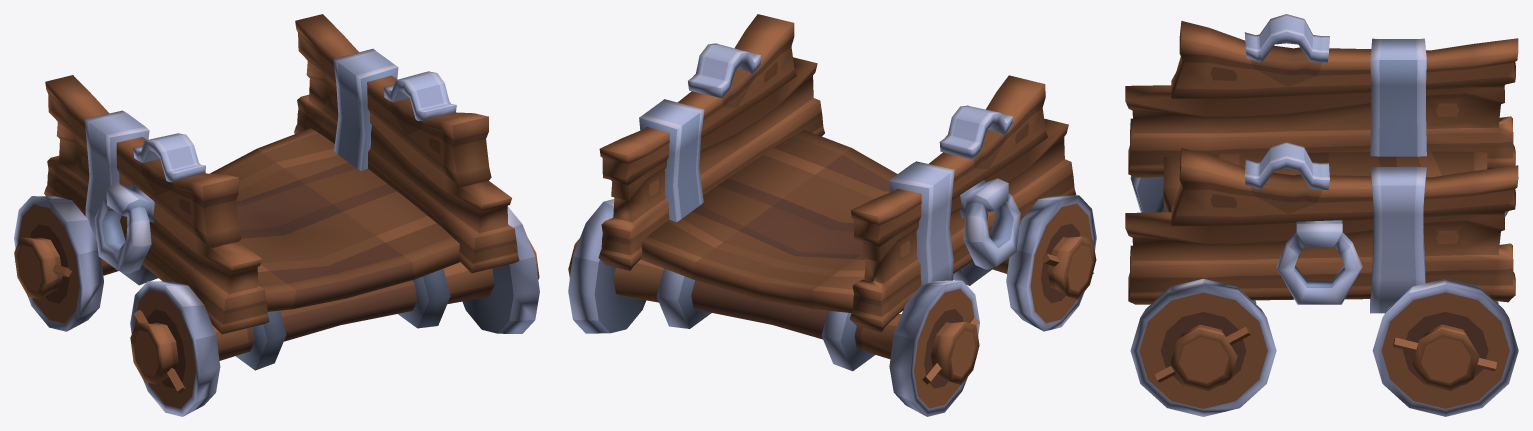
File: Prop_Cannon_Cart.fbx
The picture shows the model from 3 angles, left to right: view 1: azimuth 30°, elevation 25°; view 2: azimuth 150°, elevation 25°; view 3: azimuth 270°, elevation 25°; orthographic projection. The views are drawn at different scales.
Visible parts, largest first — view 1: Model_Cart; view 2: Model_Cart; view 3: Model_Cart.
Boxes of the visible parts, x1,y1,x2,y2 form: Model_Cart: (14, 14, 539, 416); Model_Cart: (568, 14, 1096, 416); Model_Cart: (1125, 14, 1518, 416).
Size of the model in its own units: 814 by 484 by 707.
